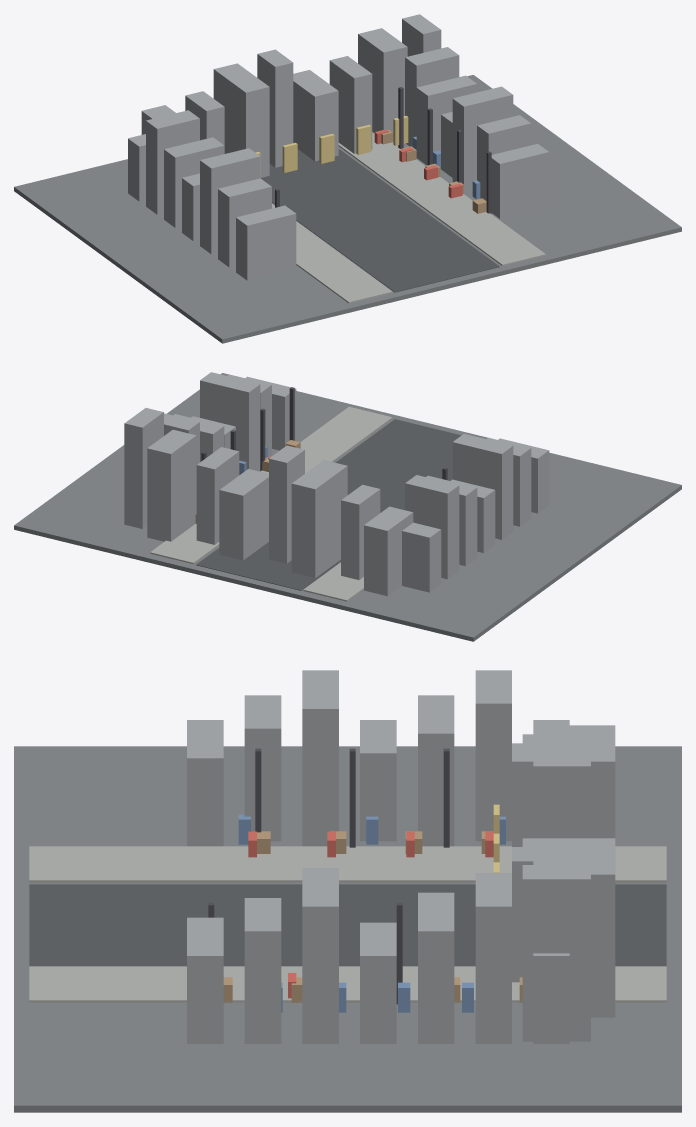
File: urban-high.gltf
3 renders of one model, top to bottom at view 1: azimuth 30°, elevation 25°; view 2: azimuth 150°, elevation 25°; view 3: azimuth 270°, elevation 25°, orthographic. The views are drawn at different scales.
Visible parts, largest first — view 1: ground, road-center, sidewalk-right, backdrop-building-3, building-l1, building-r1, backdrop-building-7, sidewalk-left, backdrop-building-5, building-r3, building-l3, backdrop-building-6 (+12 smaller); view 2: ground, road-center, backdrop-building-3, backdrop-building-7, sidewalk-right, backdrop-building-5, building-l3, building-r3, building-l6, backdrop-building-1, backdrop-building-8, backdrop-building-4 (+12 smaller); view 3: ground, road-center, sidewalk-left, sidewalk-right, backdrop-building-8, building-r3, building-l3, building-r6, building-l6, building-r5, building-r2, backdrop-building-3 (+15 smaller).
Boxes of the visible parts, box(x1,y1,x2,y2) form: ground: box(14, 75, 681, 343); road-center: box(260, 149, 499, 292); sidewalk-right: box(338, 132, 545, 265); backdrop-building-3: box(213, 63, 269, 177); building-l1: box(236, 205, 296, 280); building-r1: box(491, 143, 549, 218); backdrop-building-7: box(358, 28, 407, 139); sidewalk-left: box(272, 203, 392, 303); backdrop-building-5: box(293, 70, 338, 161); building-r3: box(452, 86, 513, 192); building-l3: box(200, 148, 260, 254); backdrop-building-6: box(329, 56, 372, 153); ground: box(14, 373, 681, 641); road-center: box(196, 419, 461, 590); backdrop-building-3: box(291, 460, 347, 577); backdrop-building-7: box(147, 429, 196, 541); sidewalk-right: box(150, 406, 392, 564); backdrop-building-5: box(219, 469, 268, 560); building-l3: box(452, 434, 513, 539); building-r3: box(200, 372, 260, 471); building-l6: box(405, 475, 459, 579); backdrop-building-1: box(364, 506, 413, 596); backdrop-building-8: box(124, 408, 163, 528); backdrop-building-4: box(269, 445, 304, 563); ground: box(14, 746, 681, 1112); road-center: box(29, 884, 666, 966); sidewalk-left: box(29, 846, 666, 882); sidewalk-right: box(29, 966, 666, 1002); backdrop-building-8: box(522, 865, 590, 1041); building-r3: box(302, 868, 338, 1043); building-l3: box(302, 670, 338, 846); building-r6: box(475, 873, 511, 1043); building-l6: box(475, 670, 511, 841); building-r5: box(418, 892, 454, 1043); building-r2: box(244, 898, 281, 1043); backdrop-building-3: box(512, 743, 615, 846).
Bounding box in the file's own units: 28 × 6.15 × 22.
